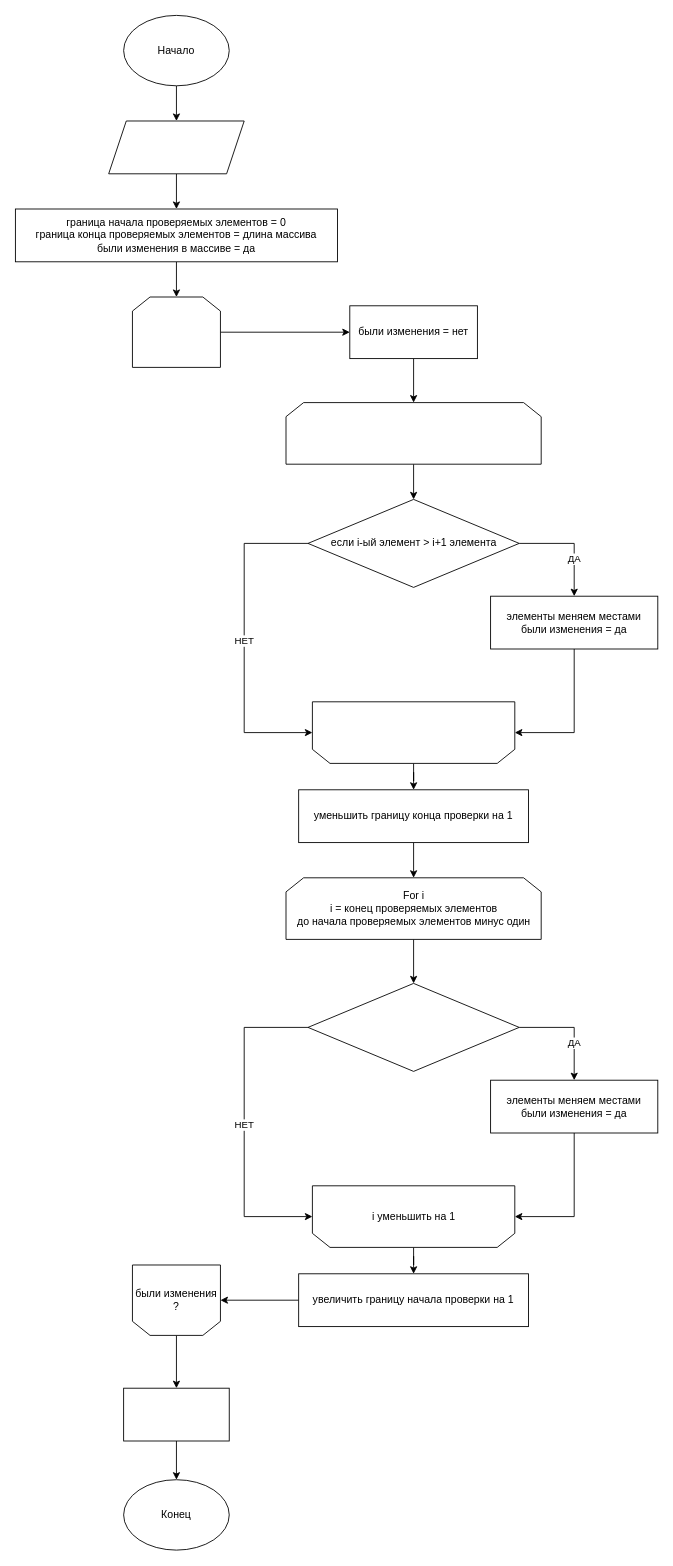
Some shapes in this 673 by 1566 pixel diagram are drawn without their labels. Each missing label, with the centre of its shape:
"For i i = начало проверяемых элементов до конца проверяемых элементов минус один" goes at pixel 413 433.
"i увеличить на 1" goes at pixel 413 732.
"если i-1 элемент > i элемента" goes at pixel 413 1027.
"Исходный массив" goes at pixel 176 147.
"отсортированный массив" goes at pixel 176 1414.
"Пока есть изменения" goes at pixel 176 331.
